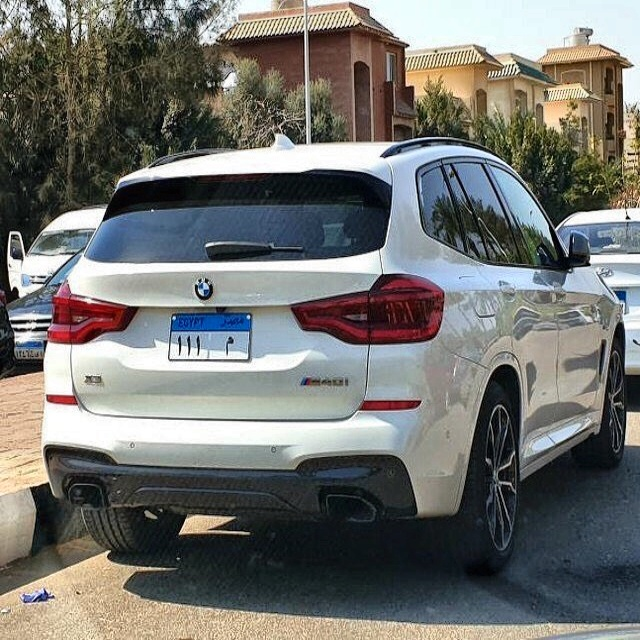License Plate: (166, 310, 254, 364)
